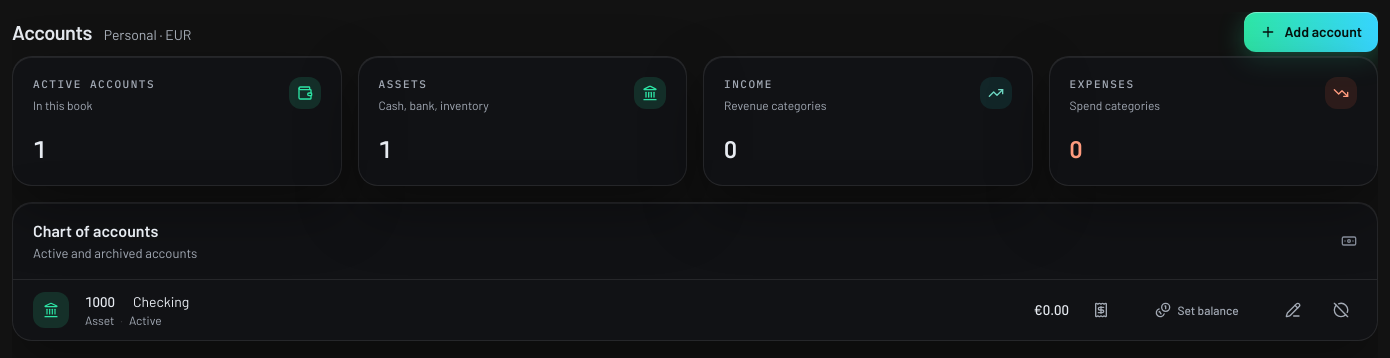
Test: AccountsPage register drill-in › register load failure shows the localized copy for its code in the ErrorBanner
This screenshot has width=1390, height=358.
Expected: the text "Checking" is shown, [133,292,189,312]
Click the button named "checking register" at [1101, 310], box [1085,294,1117,326]
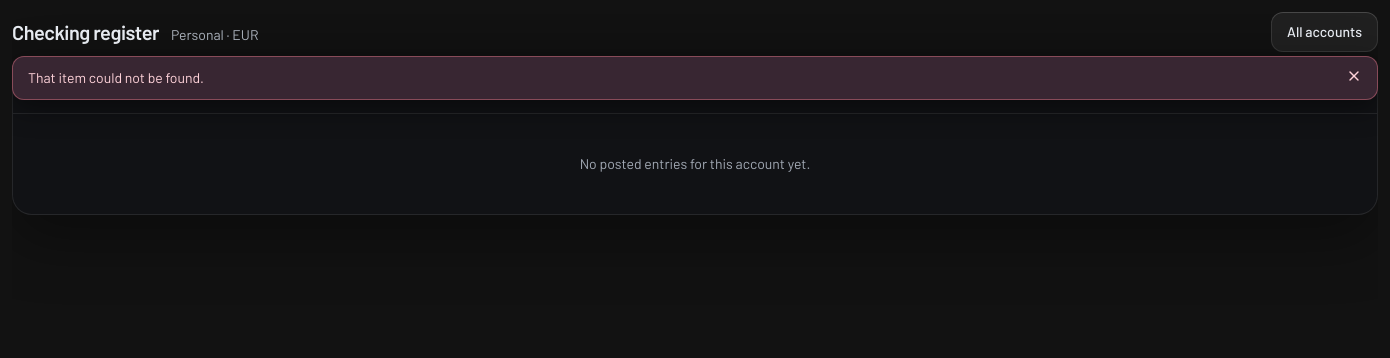
Now the message reads "That item could not be found.", box [28,69,204,86]
